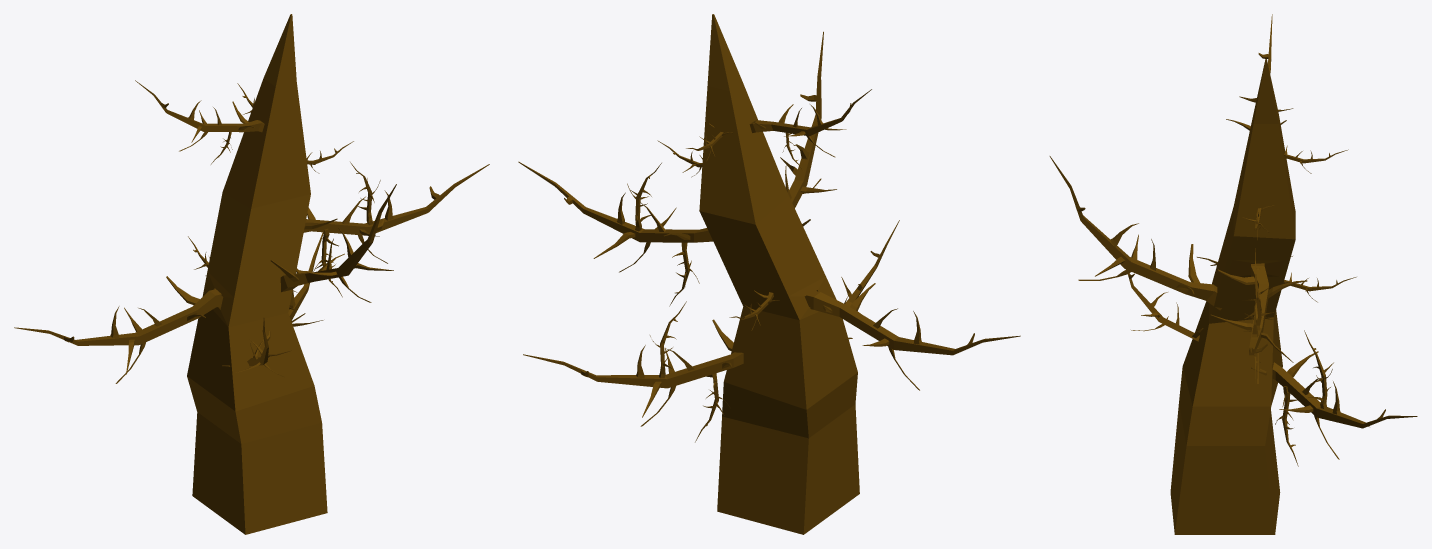
Rendered from deadbush2.fbx.
The picture shows the model from 3 angles, left to right: view 1: azimuth 30°, elevation 25°; view 2: azimuth 150°, elevation 25°; view 3: azimuth 270°, elevation 25°; orthographic projection. The views are drawn at different scales.
Visible parts, largest first — view 1: Cube.031; view 2: Cube.031; view 3: Cube.031.
Part boxes in pixels (x1,y1,x2,y2): Cube.031: (14, 14, 489, 534); Cube.031: (518, 14, 1020, 534); Cube.031: (1049, 14, 1417, 534).
Size of the model in its own units: 146 by 137 by 95.05.
